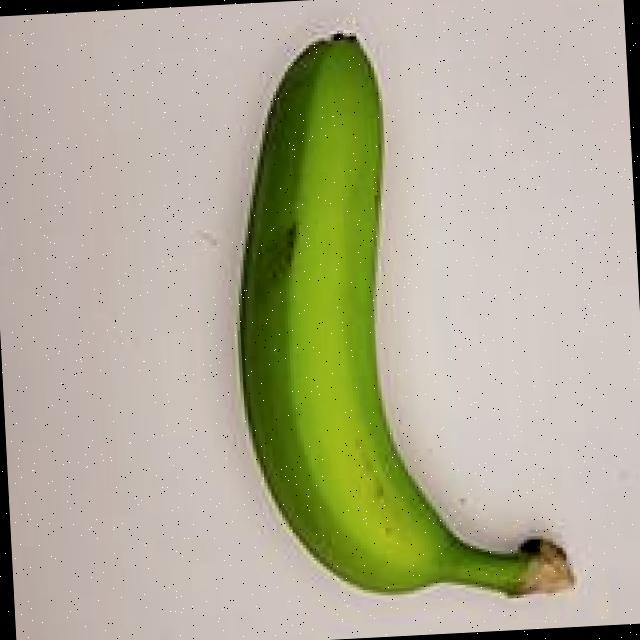Unripe: (191, 0, 605, 640)
